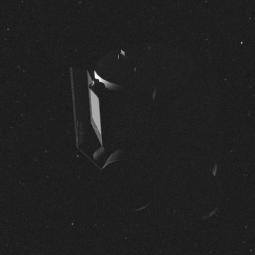cheops: (63, 43, 235, 233)
